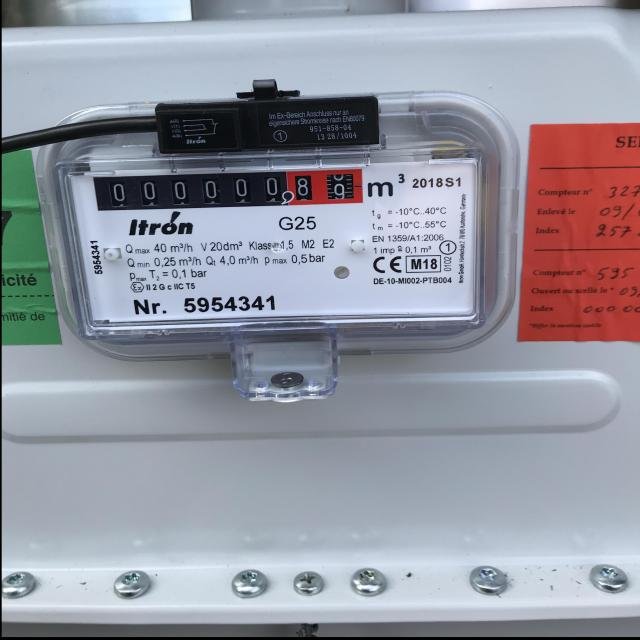gaz_meter: (52, 158, 486, 327)
indication: (100, 167, 360, 211)
